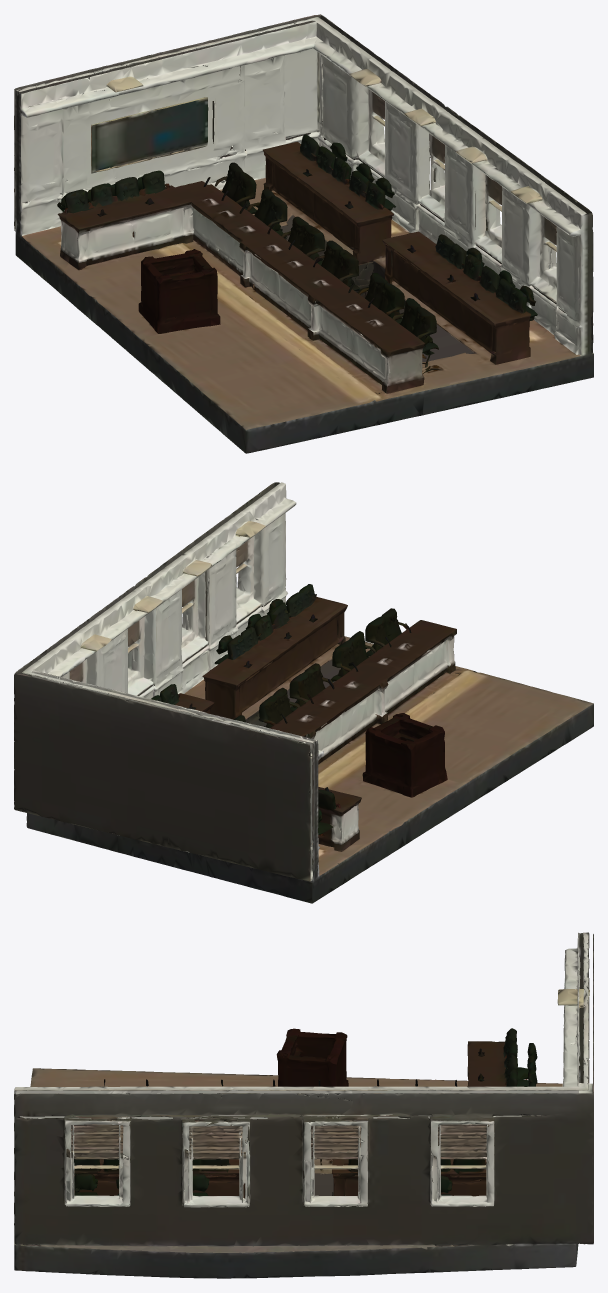
The model's file is matrouh-university-3.glb.
The picture shows the model from 3 angles, top to bottom: view 1: azimuth 30°, elevation 25°; view 2: azimuth 150°, elevation 25°; view 3: azimuth 270°, elevation 25°; orthographic projection. The views are drawn at different scales.
Size of the model in its own units: 0.7581 by 0.3388 by 1.
1 material, 1 textured.
